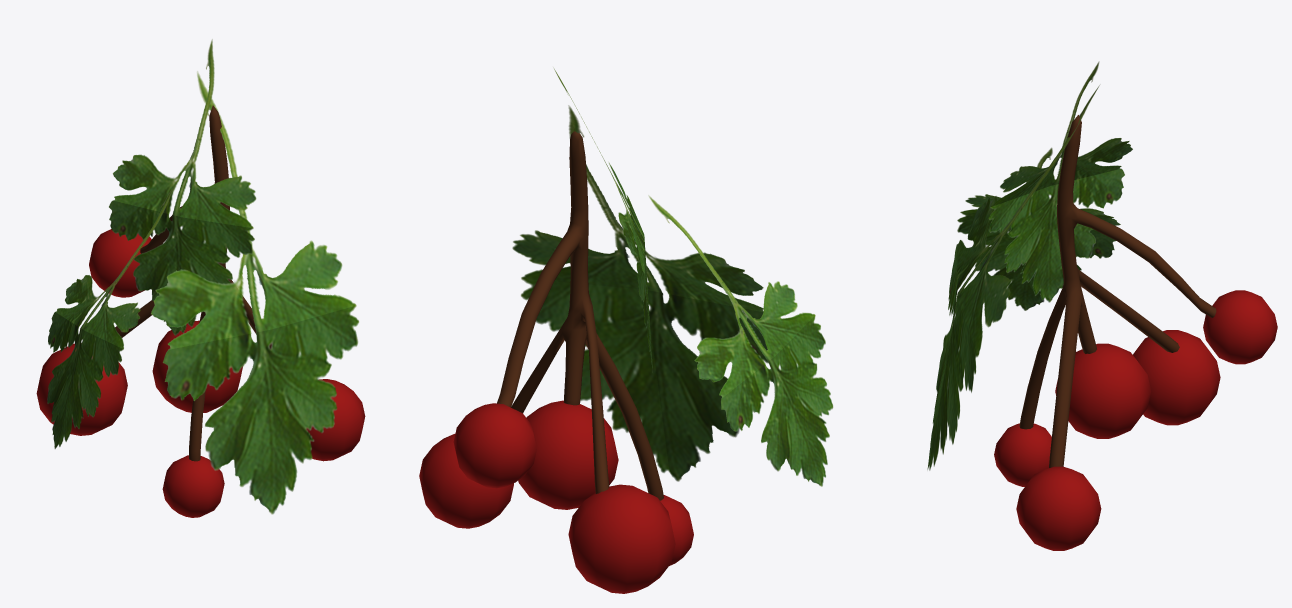
File: berries.glb
The picture shows the model from 3 angles, left to right: view 1: azimuth 30°, elevation 25°; view 2: azimuth 150°, elevation 25°; view 3: azimuth 270°, elevation 25°; orthographic projection. The views are drawn at different scales.
Parts seen in each view (by area): view 1: Plane; view 2: Plane; view 3: Plane.
Part boxes in pixels (x1,y1,x2,y2): Plane: (36, 39, 365, 517); Plane: (419, 67, 833, 593); Plane: (927, 61, 1277, 550).
Bounding box in the file's own units: 822 × 1127 × 750.
Materials: 1 (1 with a texture image).
